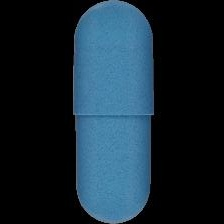54868-6152: (0, 0, 224, 224)
